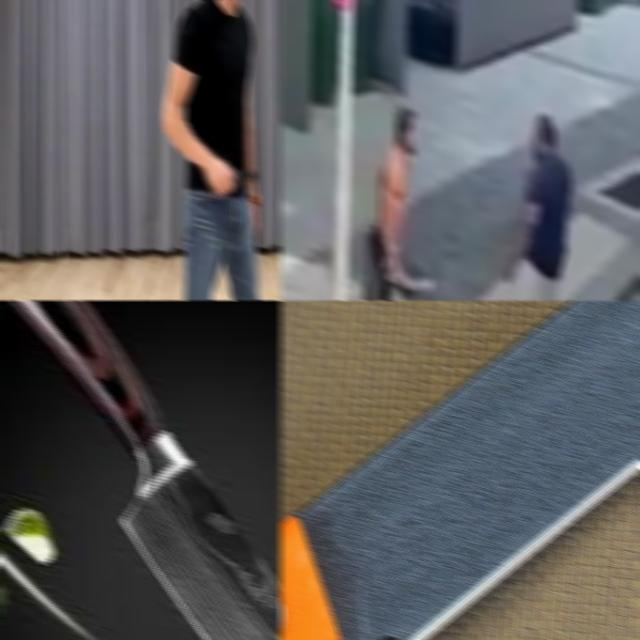Knife: (9, 300, 282, 640)
Knife_Handle: (205, 156, 261, 196), (388, 272, 436, 291), (386, 278, 436, 289)
